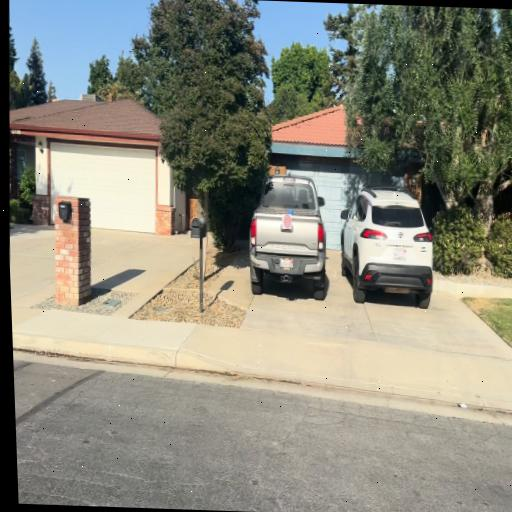bullseye: (281, 213, 291, 229)
